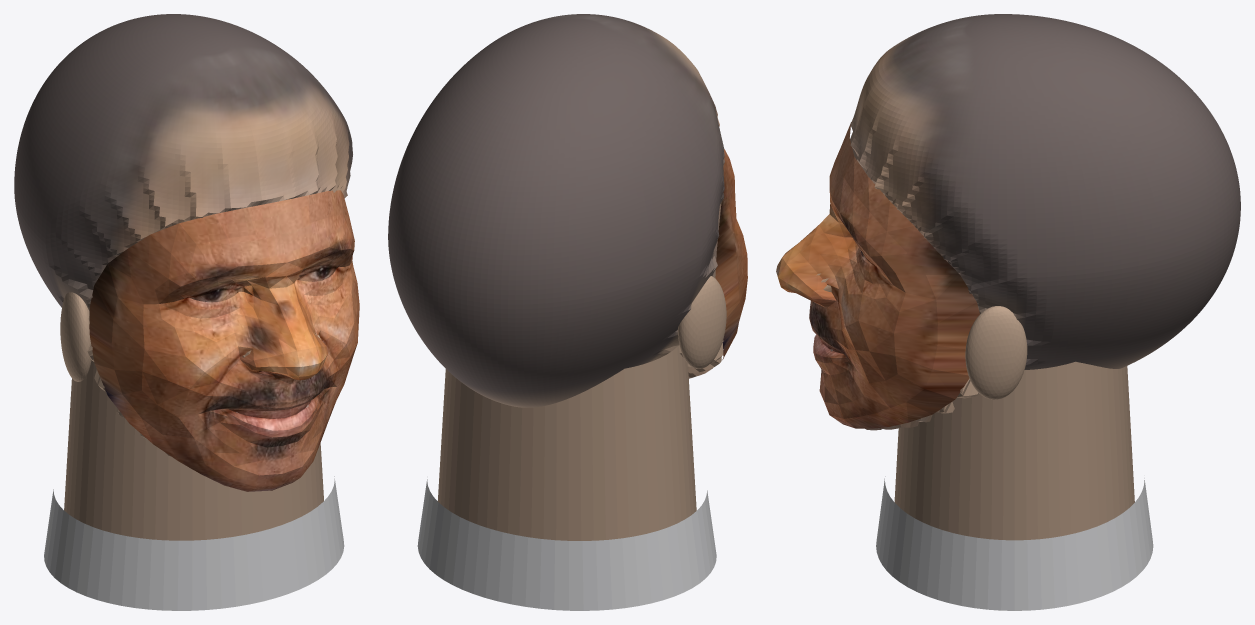
File: biya_head.glb
3 renders of one model, left to right at view 1: azimuth 30°, elevation 25°; view 2: azimuth 150°, elevation 25°; view 3: azimuth 270°, elevation 25°, orthographic.
Parts seen in each view (by area): view 1: head, face, collar, neck, ear_l; view 2: head, neck, collar, face, ear_l; view 3: head, face, neck, collar, ear_r.
Part boxes in pixels (x1,y1,x2,y2): head: (14, 14, 352, 468); face: (89, 190, 359, 491); collar: (44, 476, 344, 610); neck: (64, 360, 323, 540); ear_l: (60, 292, 91, 381); head: (388, 14, 724, 407); neck: (437, 345, 696, 540); collar: (417, 479, 716, 610); face: (715, 149, 747, 359); ear_l: (678, 276, 726, 368); head: (816, 14, 1240, 430); face: (776, 122, 979, 428); neck: (894, 361, 1134, 540); collar: (876, 476, 1153, 610); ear_r: (965, 306, 1027, 399).
Size of the model in its own units: 0.1438 by 0.25 by 0.203.
Materials: 1 (1 with a texture image).
